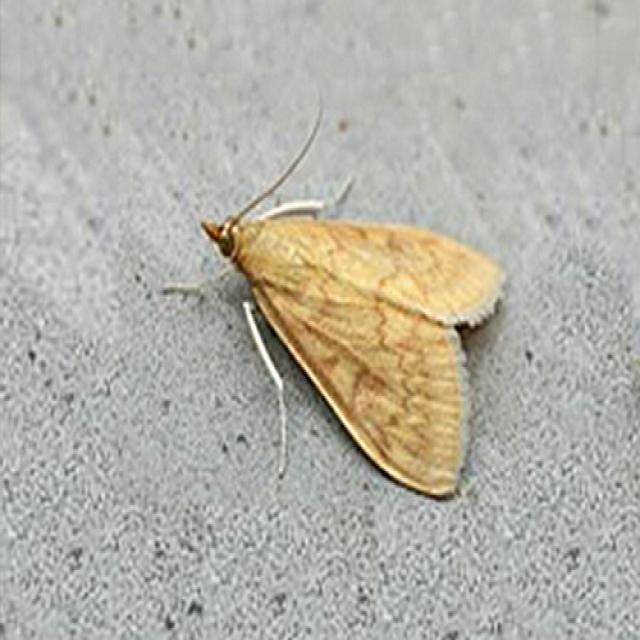cornborer-Adult-: (158, 165, 532, 514)
